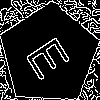E: (24, 29, 79, 82)
